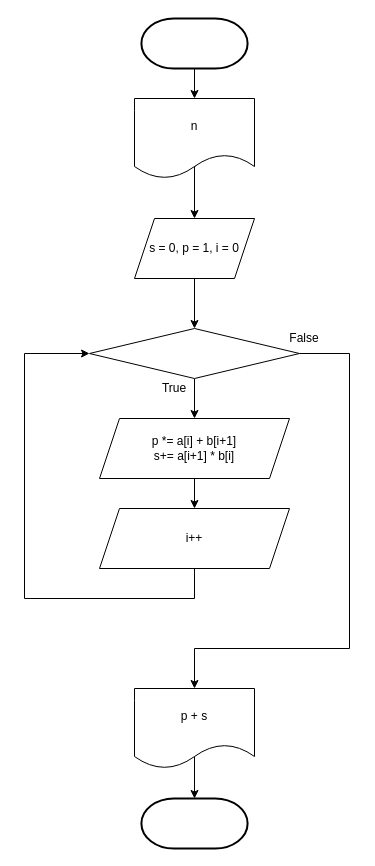
The diagram is 375 pixels wide and 866 high, and some of its shapes have lost their labels. The centre of each missing label's shape, as x and y in pixels:
"i < n" belongs at (x=194, y=353).
"Кінець" belongs at (x=194, y=823).
"Початок" belongs at (x=194, y=43).
